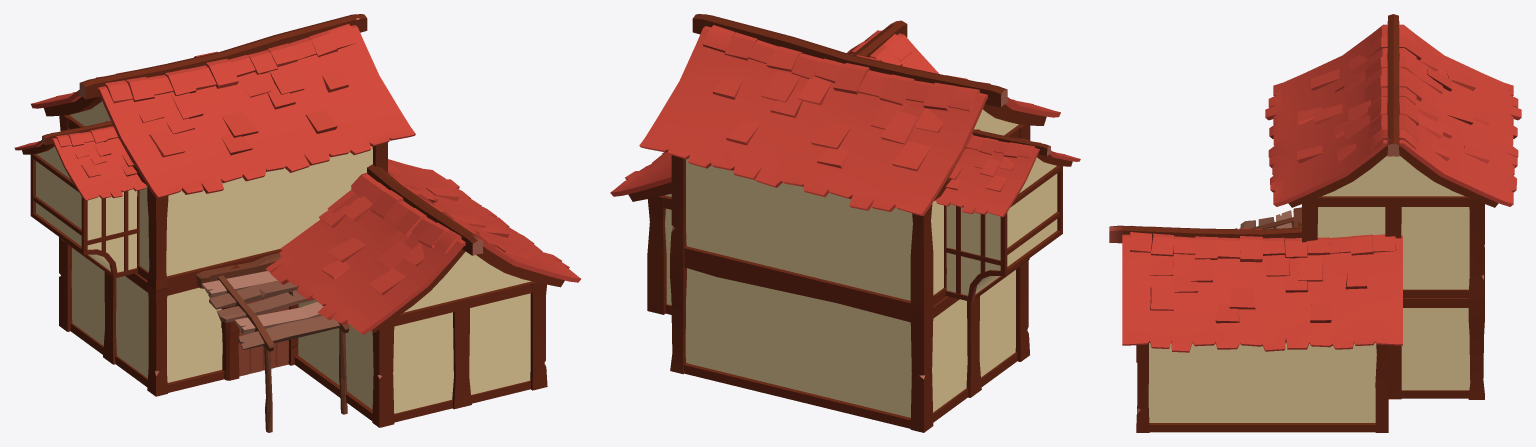
File: SM_Base_Building_4_LODS_Group.fbx
3 renders of one model, left to right at view 1: azimuth 30°, elevation 25°; view 2: azimuth 150°, elevation 25°; view 3: azimuth 270°, elevation 25°, orthographic. The views are drawn at different scales.
Parts seen in each view (by area): view 1: SM_Base_Building_4_LOD0; view 2: SM_Base_Building_4_LOD0; view 3: SM_Base_Building_4_LOD0.
Part boxes in pixels (x1,y1,x2,y2): SM_Base_Building_4_LOD0: [14, 14, 580, 432]; SM_Base_Building_4_LOD0: [610, 14, 1080, 432]; SM_Base_Building_4_LOD0: [1109, 14, 1521, 432].
Bounding box in the file's own units: 482 × 454 × 341.
